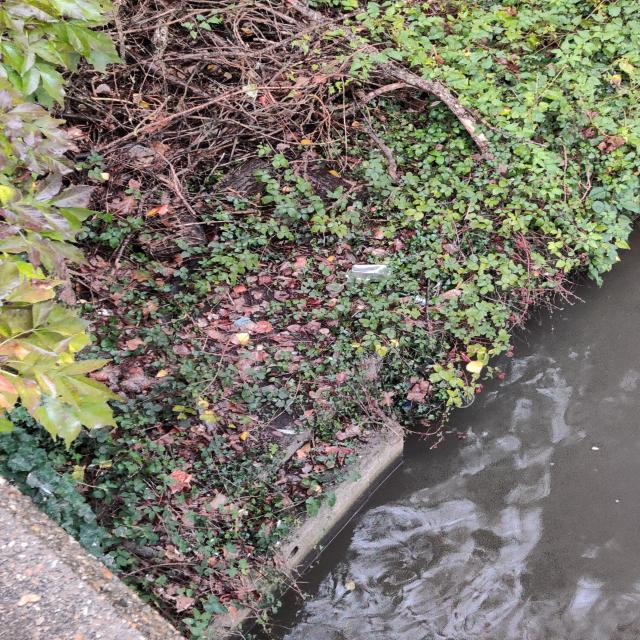litter: (336, 260, 401, 287), (391, 288, 449, 313)
